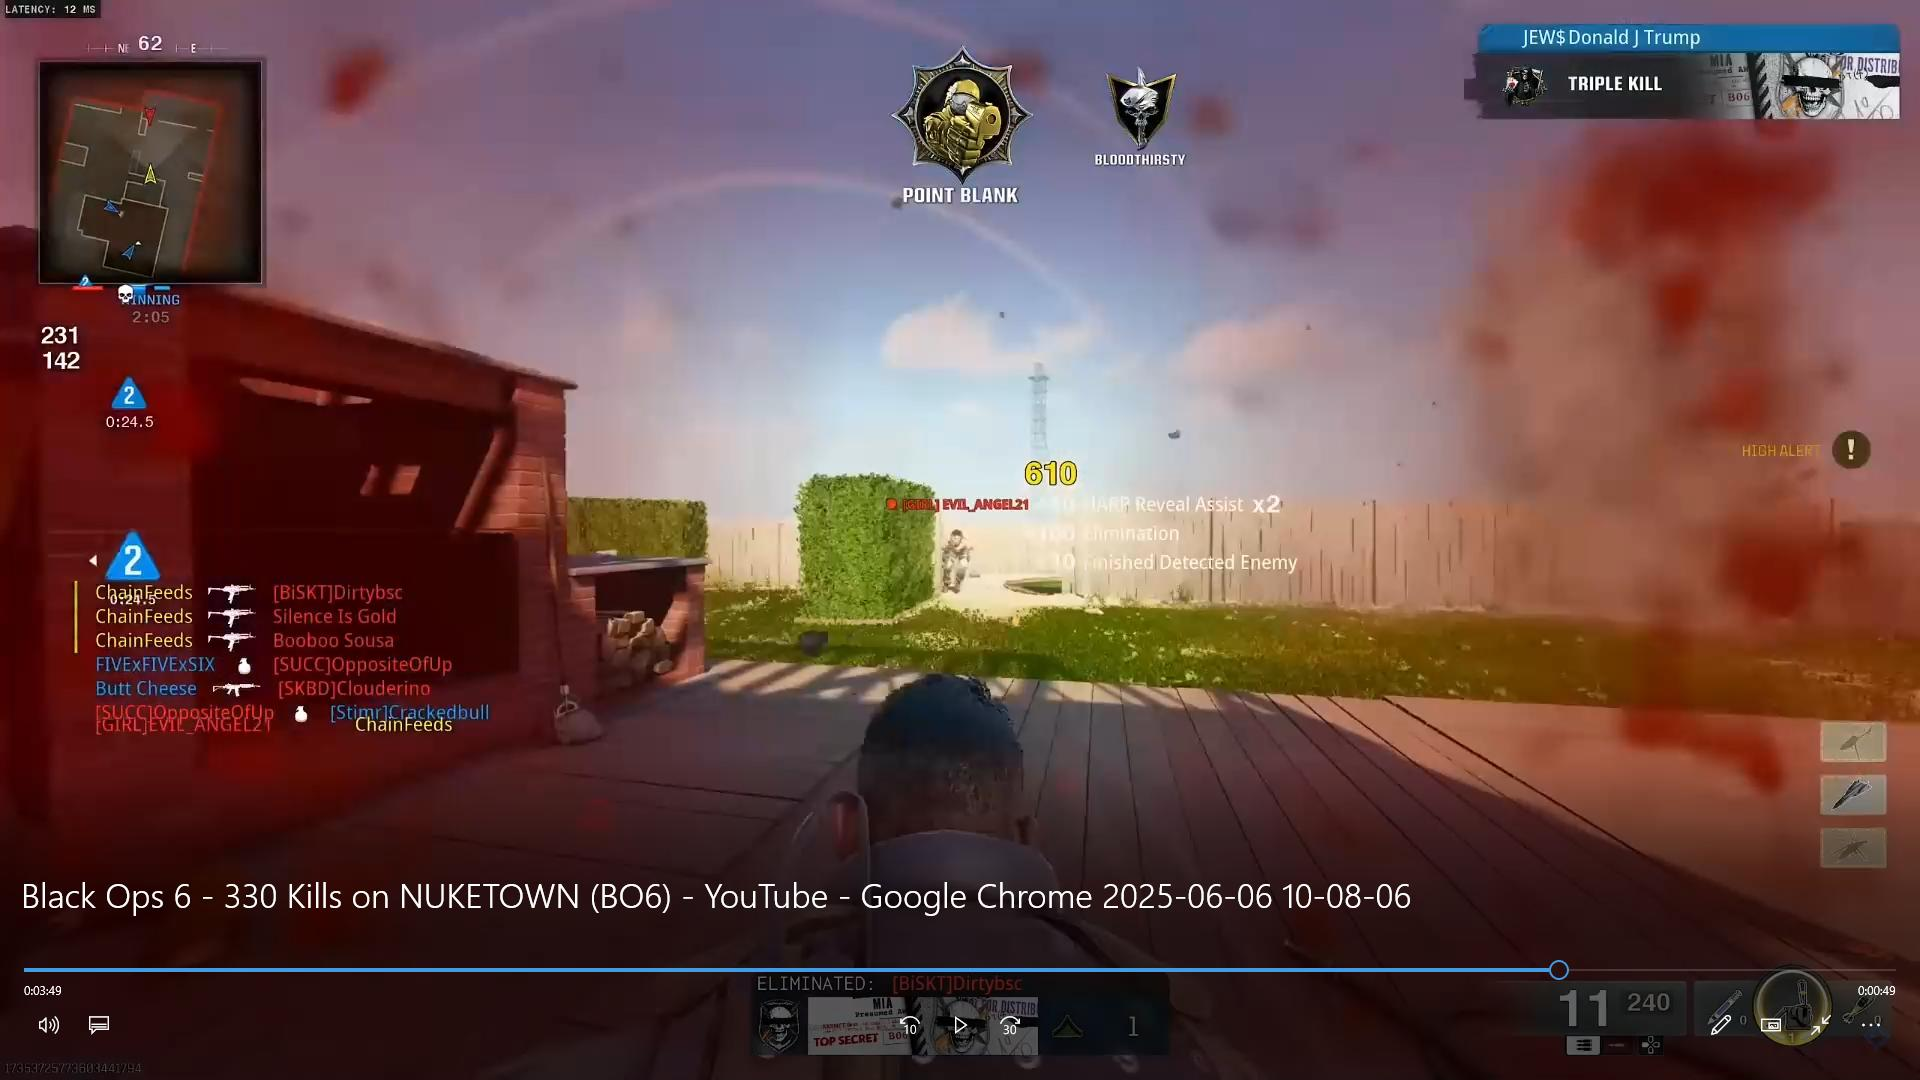Enemy: (885, 469, 1025, 613)
